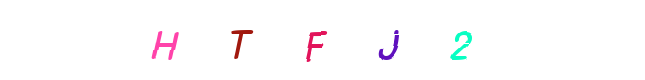2: (421, 0, 501, 80)
F: (282, 0, 362, 80)
H: (156, 0, 236, 80)
J: (350, 0, 430, 80)
T: (238, 0, 318, 80)
